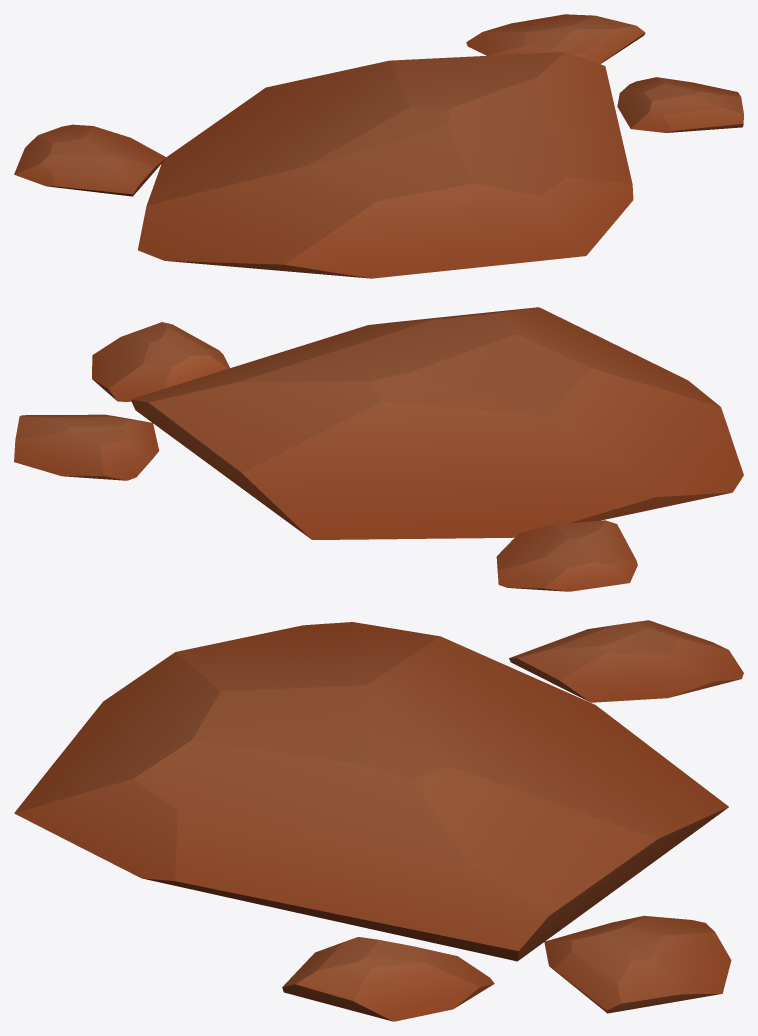
File: rocks01.fbx
The picture shows the model from 3 angles, top to bottom: view 1: azimuth 30°, elevation 25°; view 2: azimuth 150°, elevation 25°; view 3: azimuth 270°, elevation 25°; orthographic projection. The views are drawn at different scales.
Parts seen in each view (by area): view 1: Rocks01; view 2: Rocks01; view 3: Rocks01.
Boxes of the visible parts, bbox=[...] form: Rocks01: bbox=[14, 14, 743, 278]; Rocks01: bbox=[14, 307, 743, 591]; Rocks01: bbox=[14, 620, 743, 1021].
Bounding box in the file's own units: 647 × 52.49 × 496.
